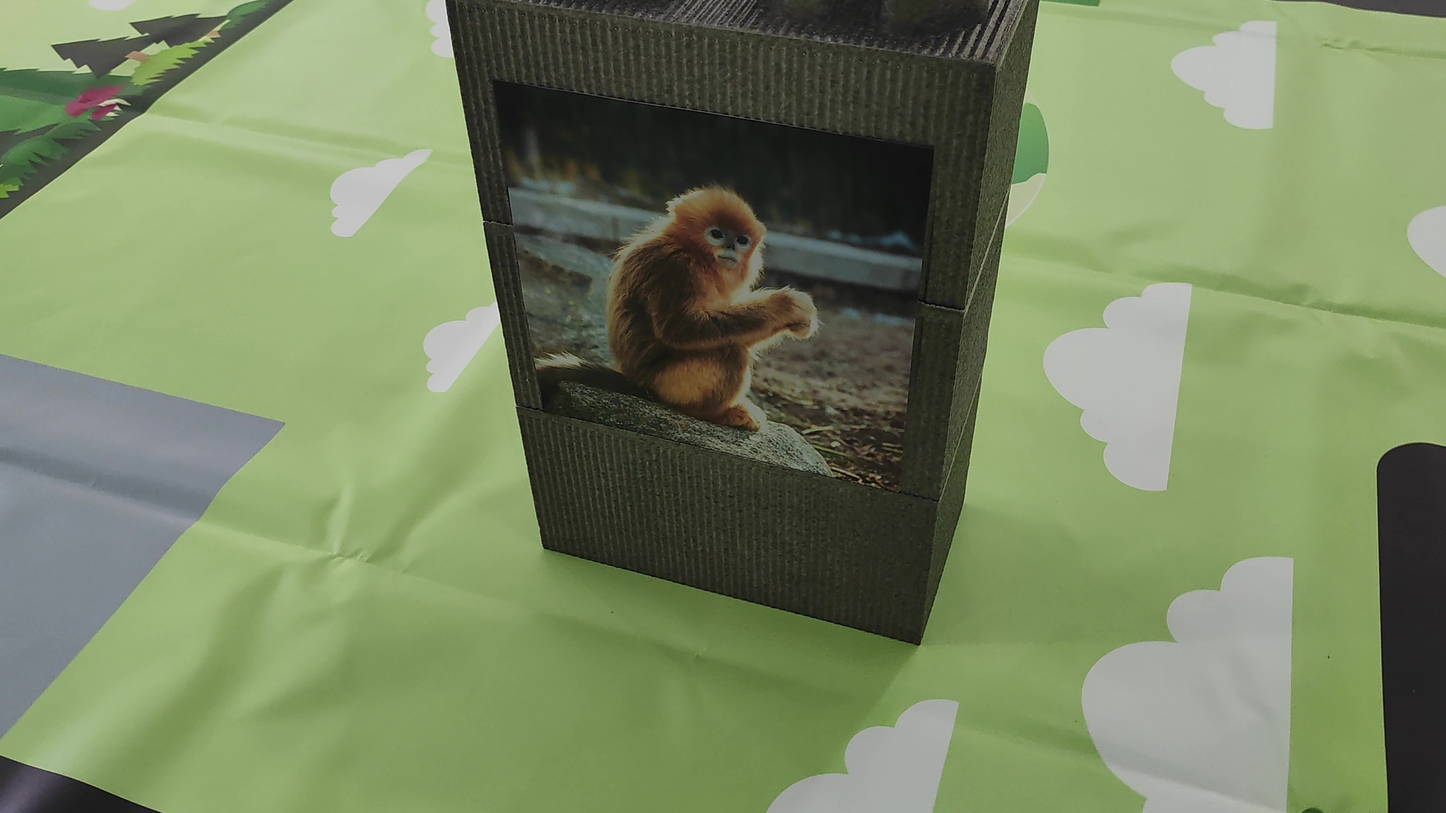monkey: (593, 167, 833, 456)
